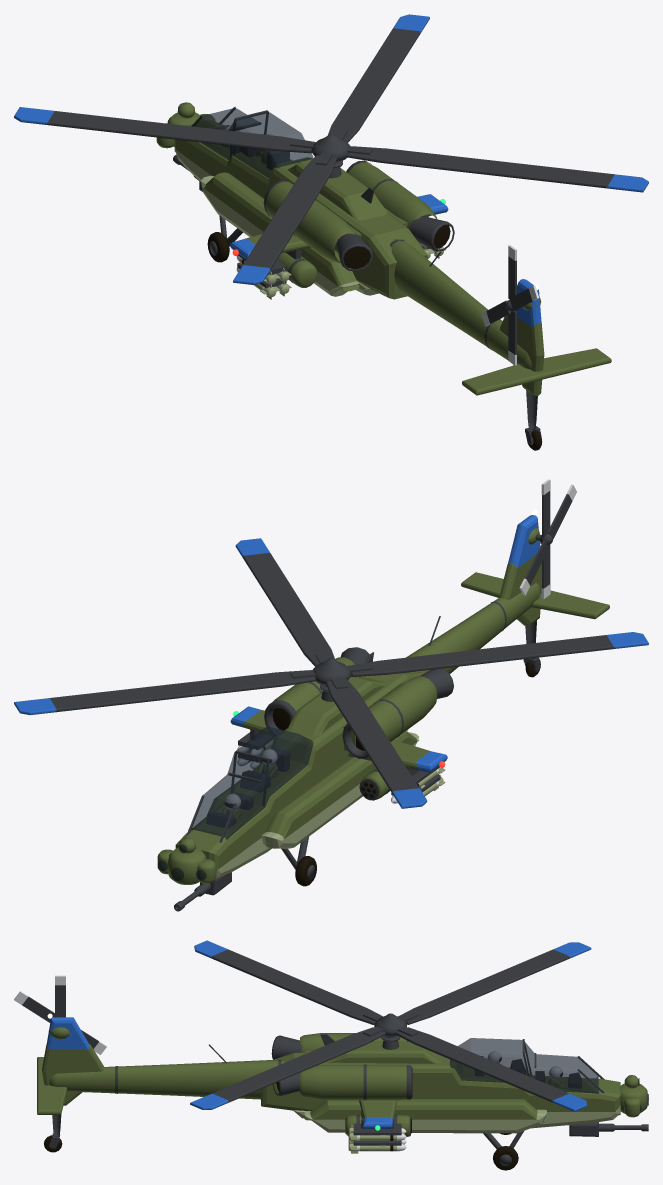
Rendered from apache.glb.
3 views of the same model, one above another, from view 1: azimuth 30°, elevation 25°; view 2: azimuth 150°, elevation 25°; view 3: azimuth 270°, elevation 25° (orthographic). The views are drawn at different scales.
Visible parts, largest first — view 1: fuselage_upper, tail_boom, main_rotor_blade_2_mesh, main_rotor_blade_4_mesh, canopy_glass, main_rotor_blade_3_mesh, main_rotor_blade_1_mesh, sponson_upper_L, stabilator, nacelle_L, nacelle_R, upper_fairing (+7 smaller); view 2: fuselage_upper, canopy_glass, main_rotor_blade_3_mesh, main_rotor_blade_1_mesh, sponson_upper_L, main_rotor_blade_2_mesh, main_rotor_blade_4_mesh, tail_boom, nacelle_L, upper_fairing, stabilator, tail_rotor (+8 smaller); view 3: fuselage_upper, tail_boom, canopy_glass, sponson_upper_R, nacelle_R, main_rotor_blade_2_mesh, main_rotor_blade_1_mesh, main_rotor_blade_3_mesh, main_rotor_blade_4_mesh, sponson_belly_R, upper_fairing, tail_fin (+18 smaller).
Part boxes in pixels (x1=…): fuselage_upper: x1=174, y1=120, x2=427, y2=299; tail_boom: x1=391, y1=239, x2=531, y2=369; main_rotor_blade_2_mesh: x1=46, y1=111, x2=313, y2=153; main_rotor_blade_4_mesh: x1=347, y1=146, x2=614, y2=188; canopy_glass: x1=193, y1=108, x2=313, y2=178; main_rotor_blade_3_mesh: x1=243, y1=155, x2=336, y2=269; main_rotor_blade_1_mesh: x1=328, y1=28, x2=420, y2=142; sponson_upper_L: x1=204, y1=172, x2=359, y2=291; stabilator: x1=462, y1=348, x2=611, y2=395; nacelle_L: x1=266, y1=181, x2=355, y2=263; nacelle_R: x1=348, y1=162, x2=436, y2=243; upper_fairing: x1=287, y1=159, x2=387, y2=220; fuselage_upper: x1=175, y1=672, x2=424, y2=871; canopy_glass: x1=188, y1=726, x2=313, y2=840; main_rotor_blade_3_mesh: x1=348, y1=635, x2=614, y2=676; main_rotor_blade_1_mesh: x1=50, y1=670, x2=315, y2=712; sponson_upper_L: x1=266, y1=731, x2=418, y2=838; main_rotor_blade_2_mesh: x1=326, y1=679, x2=418, y2=793; main_rotor_blade_4_mesh: x1=243, y1=553, x2=335, y2=666; tail_boom: x1=406, y1=583, x2=540, y2=673; nacelle_L: x1=368, y1=676, x2=437, y2=741; upper_fairing: x1=287, y1=676, x2=386, y2=736; stabilator: x1=461, y1=572, x2=609, y2=619; tail_rotor: x1=519, y1=479, x2=576, y2=599; fuselage_upper: x1=261, y1=1052, x2=620, y2=1115; tail_boom: x1=49, y1=1060, x2=285, y2=1099; canopy_glass: x1=450, y1=1038, x2=598, y2=1093; sponson_upper_R: x1=304, y1=1099, x2=537, y2=1120; nacelle_R: x1=300, y1=1065, x2=406, y2=1100; main_rotor_blade_2_mesh: x1=398, y1=949, x2=570, y2=1024; main_rotor_blade_1_mesh: x1=395, y1=1027, x2=568, y2=1102; main_rotor_blade_3_mesh: x1=211, y1=949, x2=382, y2=1024; main_rotor_blade_4_mesh: x1=212, y1=1027, x2=385, y2=1102; sponson_belly_R: x1=304, y1=1109, x2=546, y2=1133; upper_fairing: x1=324, y1=1041, x2=441, y2=1063; tail_fin: x1=42, y1=1044, x2=104, y2=1105.
Bounding box in the file's own units: 10.82 × 5.02 × 17.11.
